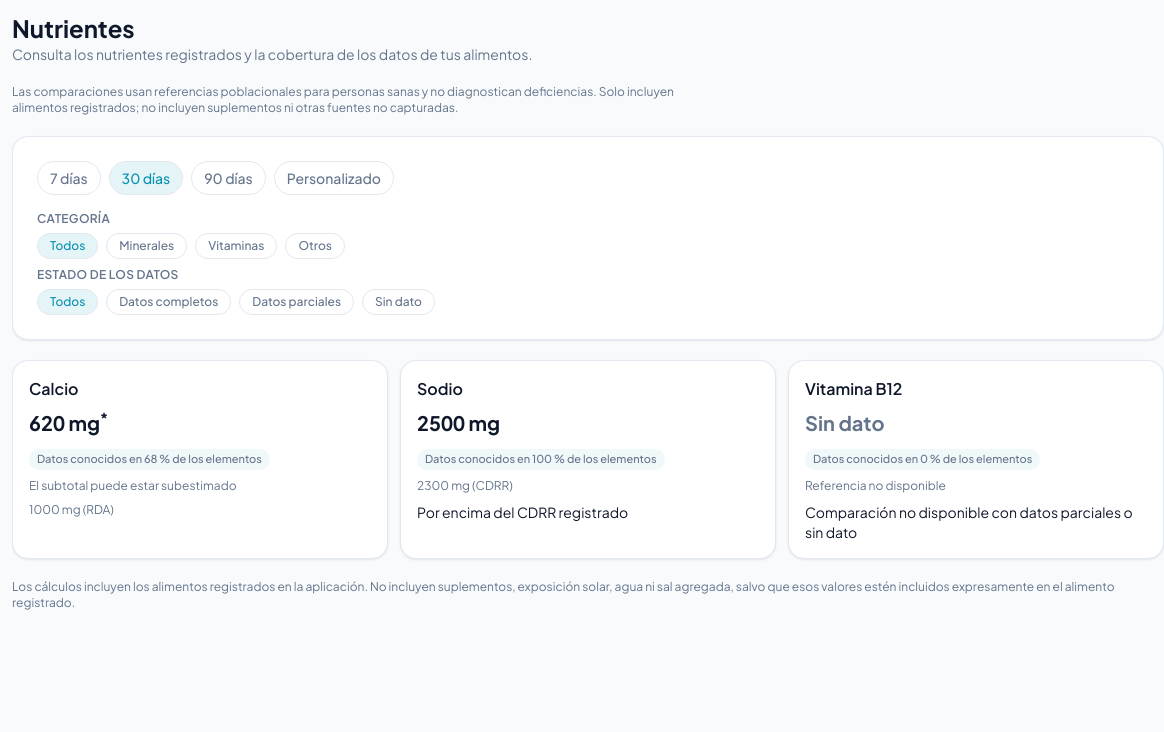
Test case: NutrientReportPage › filters by period (7/30/90/custom)
Expected: the text "Calcio" is shown, left=29, top=378, right=78, bottom=399
Click the button "7 días" at (69, 178), box left=37, top=161, right=101, bottom=195
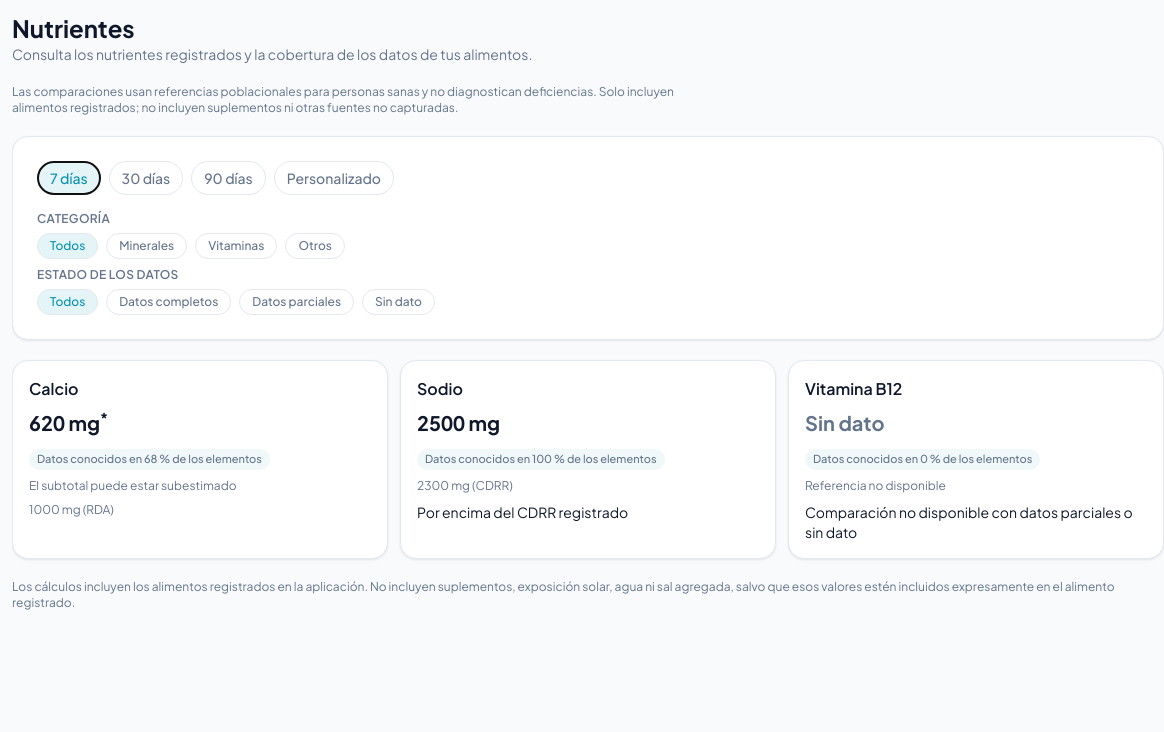
Click the button "90 días" at (228, 178), box left=191, top=161, right=266, bottom=195
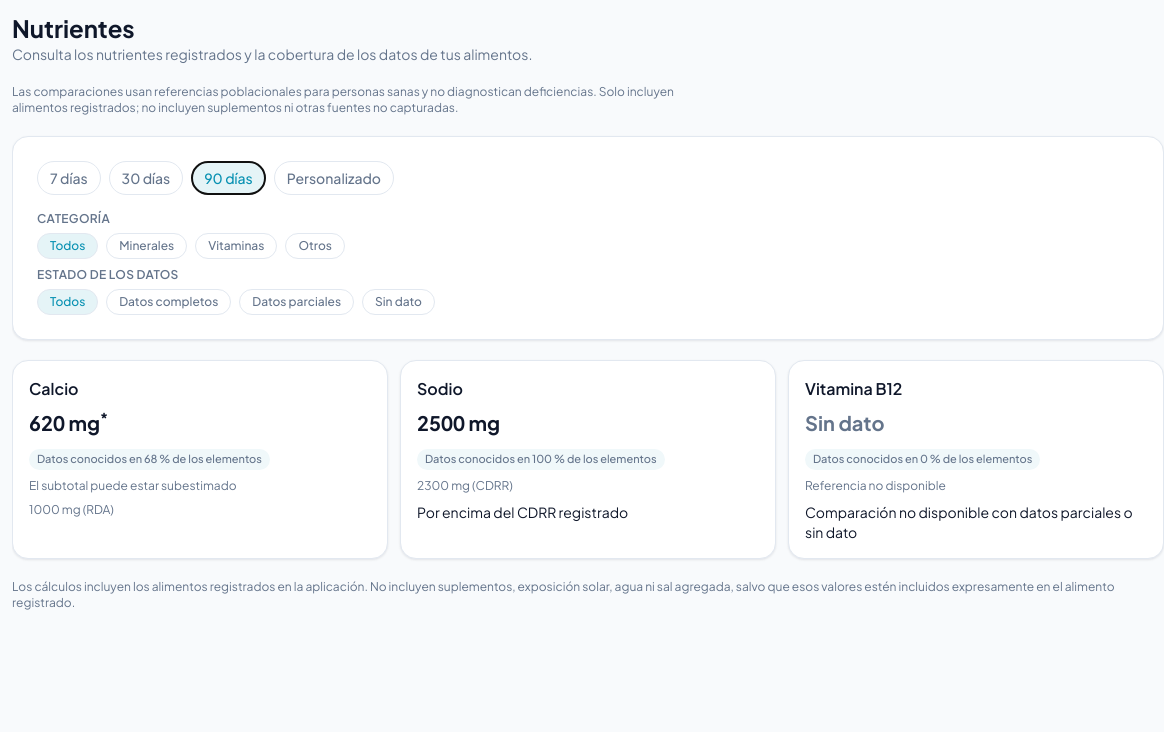
Click the button "Personalizado" at (334, 178), box left=274, top=161, right=394, bottom=195
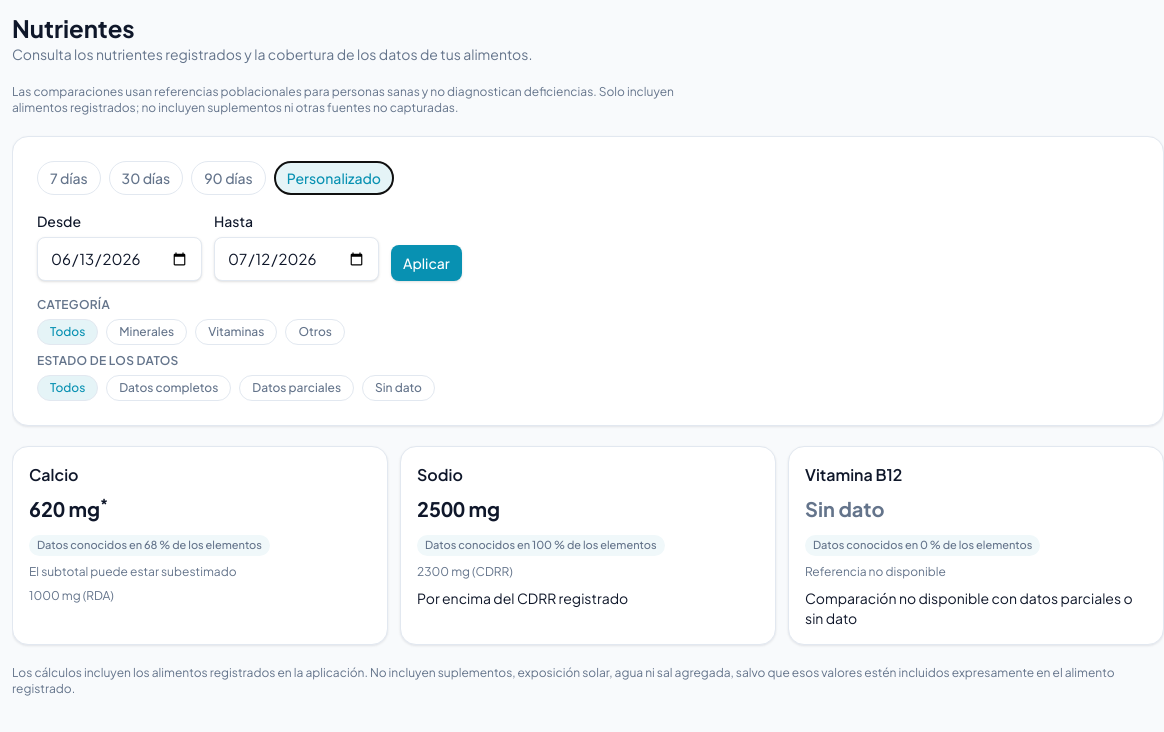
Expected: the date field labelled "Desde" is shown, left=37, top=237, right=202, bottom=281
Expected: the date field labelled "Hasta" is shown, left=214, top=237, right=379, bottom=281
